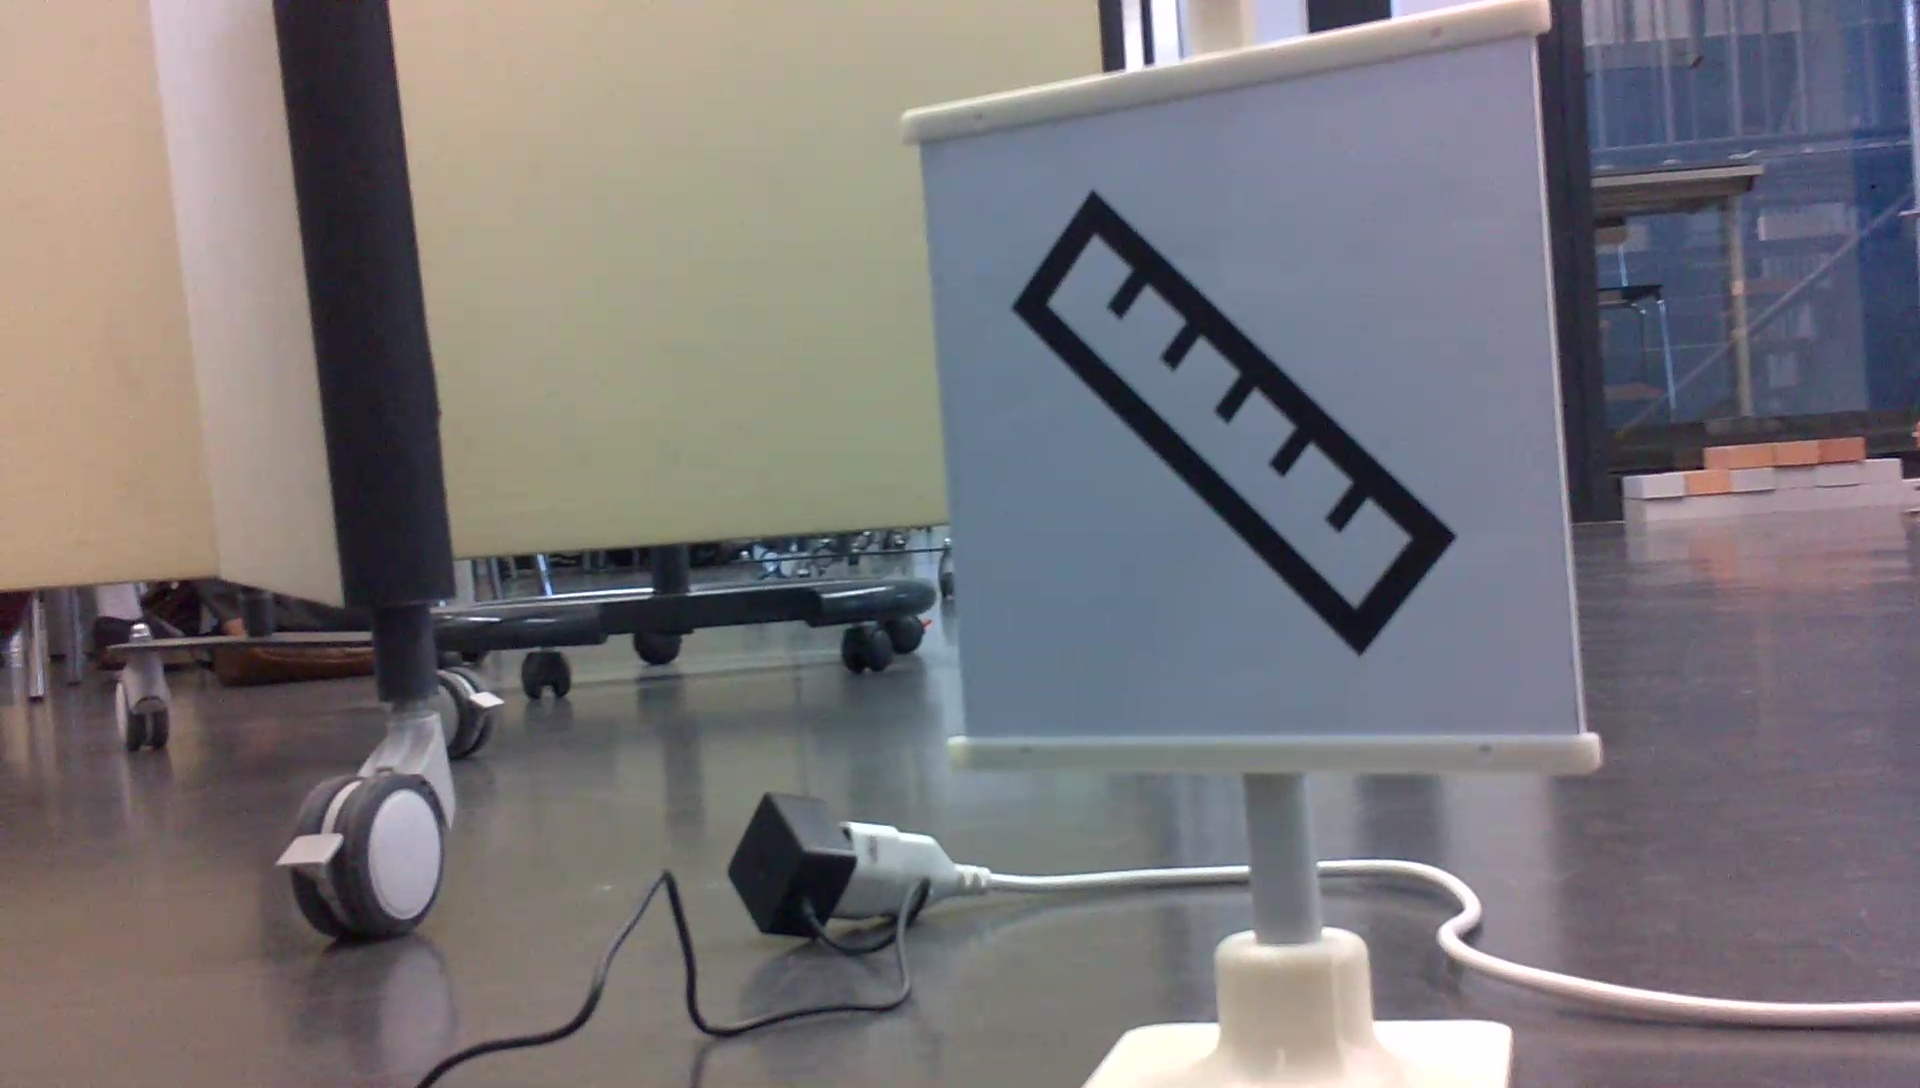ruler: (1007, 156, 1473, 671)
